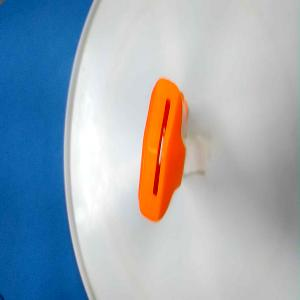estilete: (137, 77, 206, 223)
